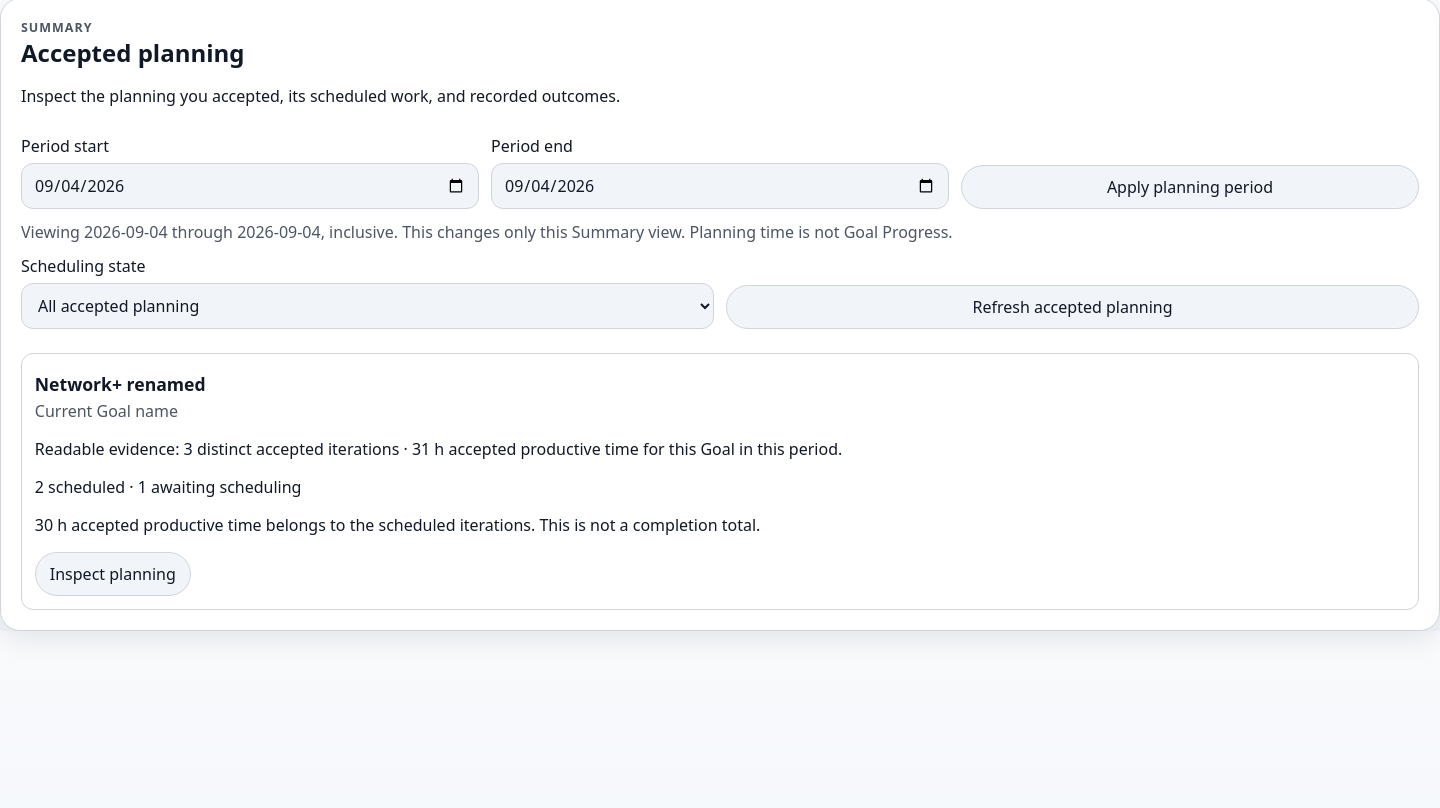
Test: Network+ 10h, 20h and unrealized 1h remain three exact decisions; display totals never merge them
The image size is (1440, 808).
Step 1. Click the button named "Inspect planning:" → (113, 574), box [35, 552, 191, 596]
(page scrolled)
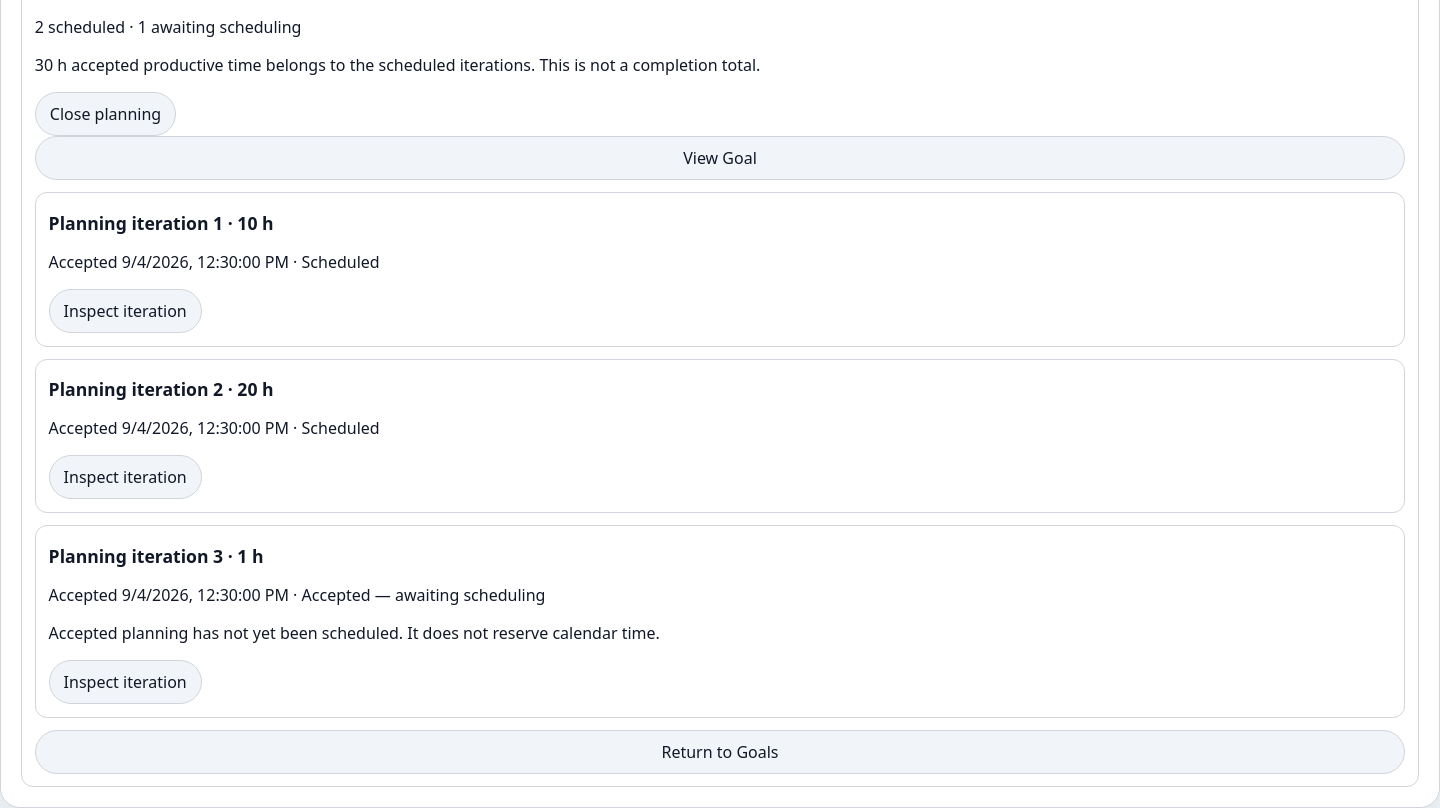
Expected: the heading "Planning iteration 1 · 10 h" is shown, [49, 211, 274, 235]
Expected: the heading "Planning iteration 2 · 20 h" is shown, [49, 377, 274, 401]
Expected: the heading "Planning iteration 3 · 1 h" is shown, [49, 544, 264, 568]
